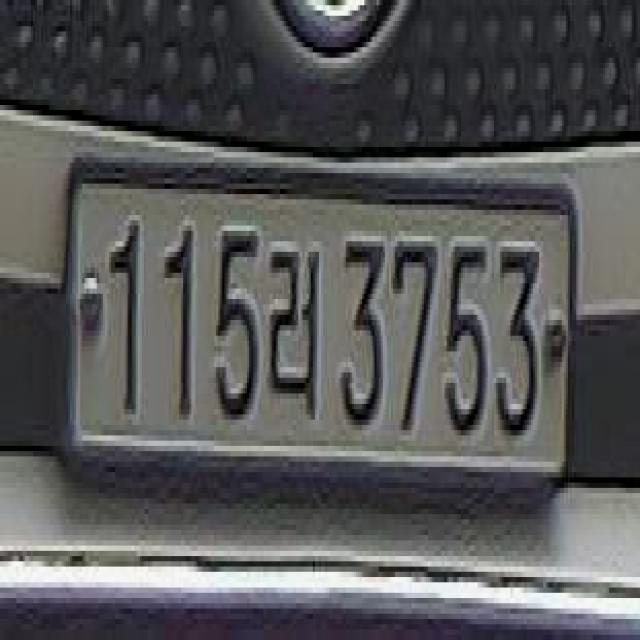illegal_plate: (62, 150, 571, 510)
